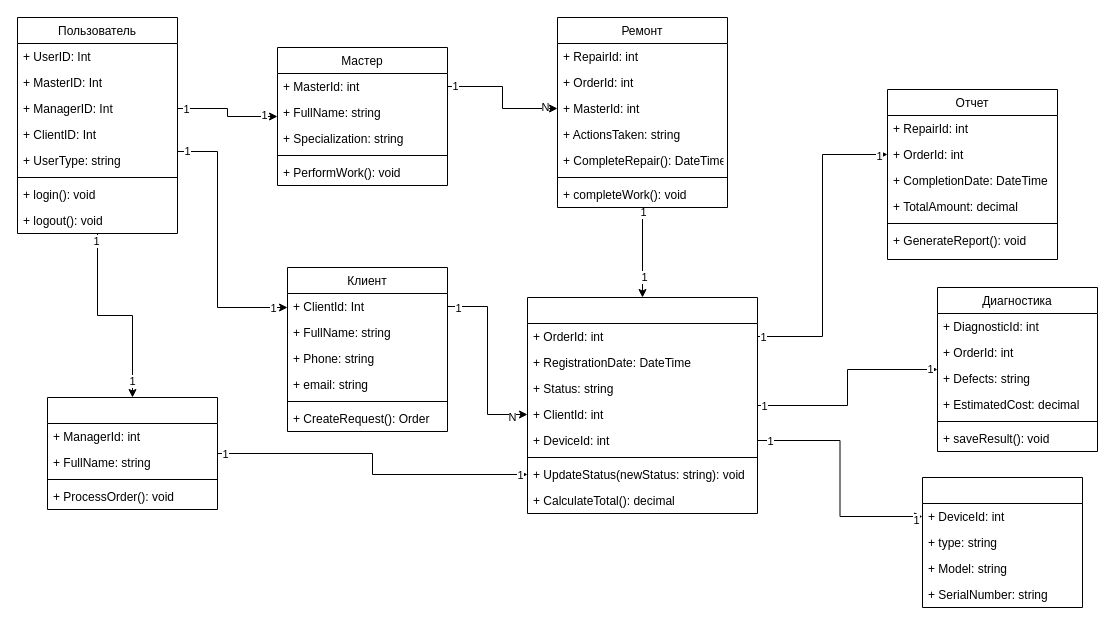
The diagram is 1115 pixels wide and 628 high, and some of its shapes have lost their labels. The box of each missing label's shape, as (x1, y1, x2, y2) in pixels:
Заявка: (526, 296, 758, 514)
Менеджер: (46, 396, 218, 510)
Устройство: (922, 476, 1082, 608)
